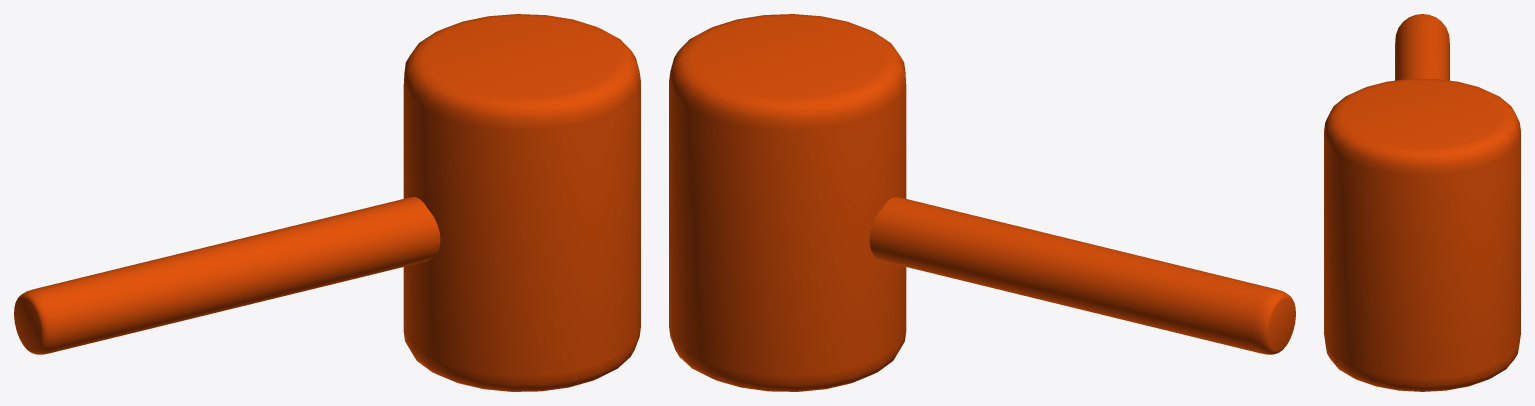
The model's file is balyoz.FBX.
3 renders of one model, left to right at view 1: azimuth 30°, elevation 25°; view 2: azimuth 150°, elevation 25°; view 3: azimuth 270°, elevation 25°, orthographic. The views are drawn at different scales.
Parts seen in each view (by area): view 1: balyoz; view 2: balyoz; view 3: balyoz.
Part boxes in pixels (left/top/right/bottom): balyoz: left=14, top=14, right=640, bottom=391; balyoz: left=669, top=14, right=1295, bottom=391; balyoz: left=1324, top=14, right=1520, bottom=391.
Bounding box in the file's own units: 150 × 69.86 × 51.72.
